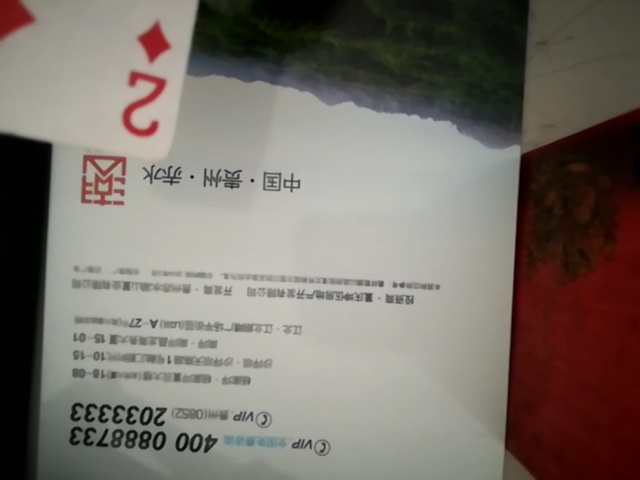fk 2: (1, 1, 238, 209)
